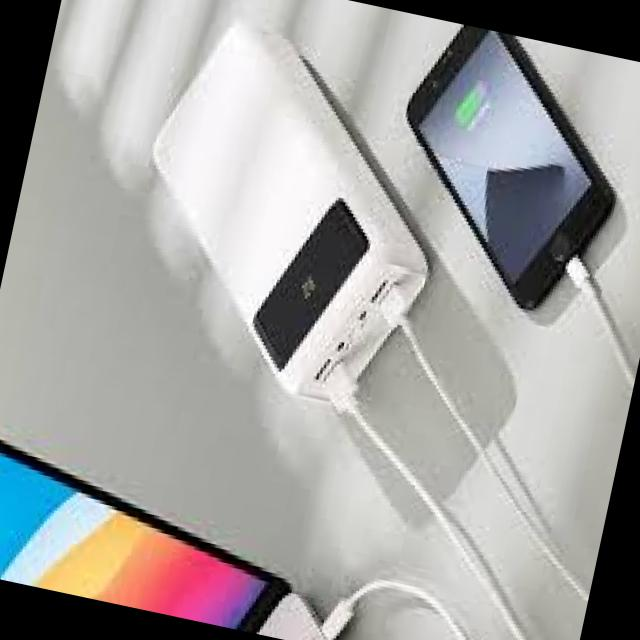power_bank: (106, 8, 476, 423)
